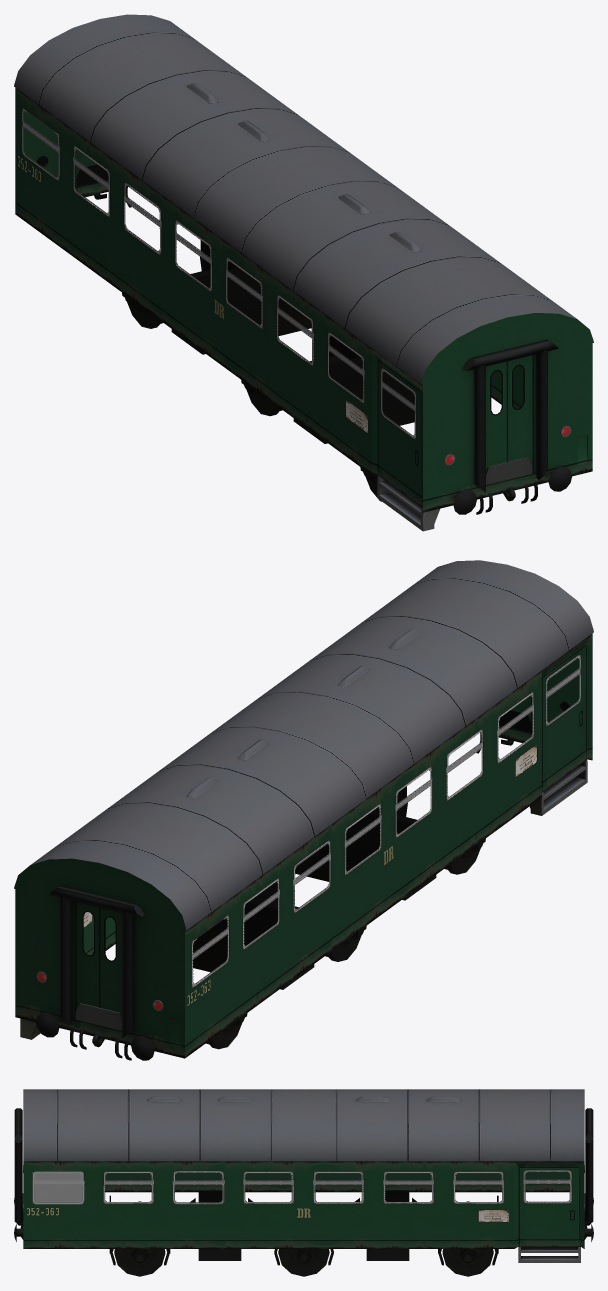
Rendered from dr_umbauwagen.obj.
3 renders of one model, top to bottom at view 1: azimuth 30°, elevation 25°; view 2: azimuth 150°, elevation 25°; view 3: azimuth 270°, elevation 25°, orthographic. The views are drawn at different scales.
Visible parts, largest first — view 1: dr_umbauwagen; view 2: dr_umbauwagen; view 3: dr_umbauwagen.
Part boxes in pixels (x1=…): dr_umbauwagen: x1=14, y1=14, x2=593, y2=531; dr_umbauwagen: x1=14, y1=560, x2=593, y2=1060; dr_umbauwagen: x1=14, y1=1089, x2=593, y2=1276.
Bounding box in the file's own units: 3.09 × 4.11 × 13.08.
Materials: 1 (1 with a texture image).
